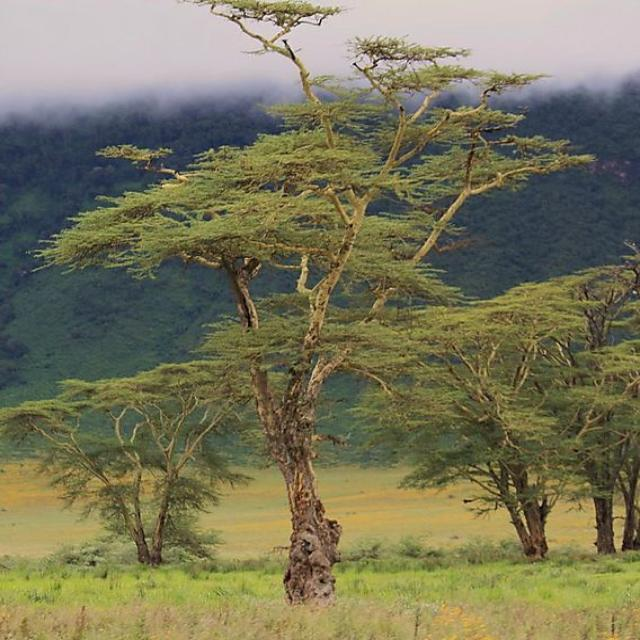Acacia: (84, 46, 627, 560)
